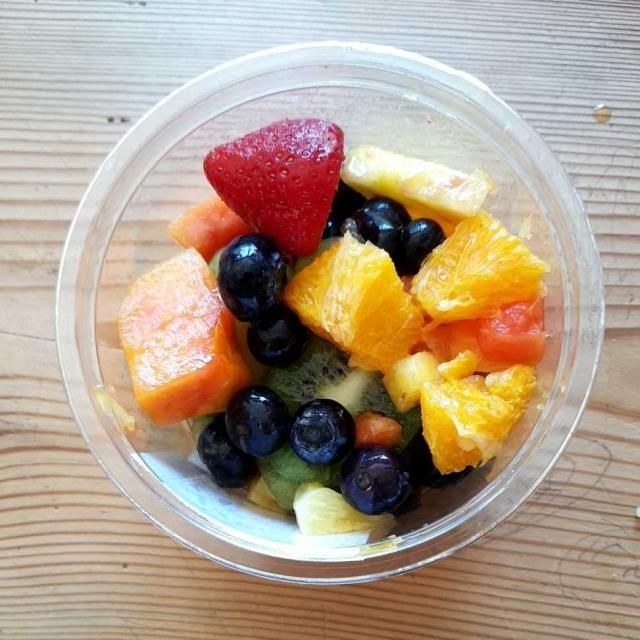fruit-salad: (122, 125, 542, 539)
